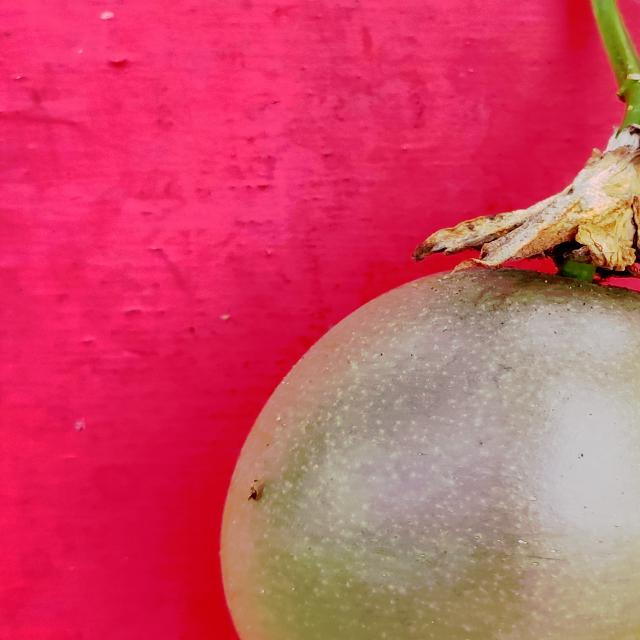Estado-2: (221, 51, 640, 640)
